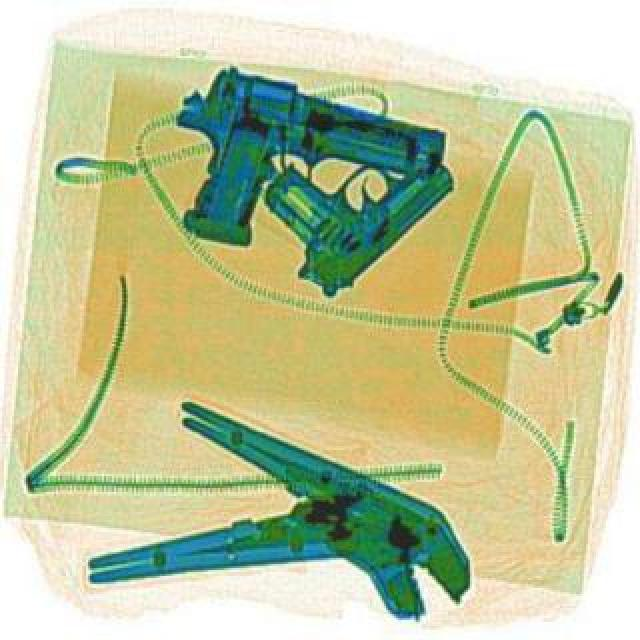gun: (144, 58, 450, 286), (236, 92, 464, 296)
